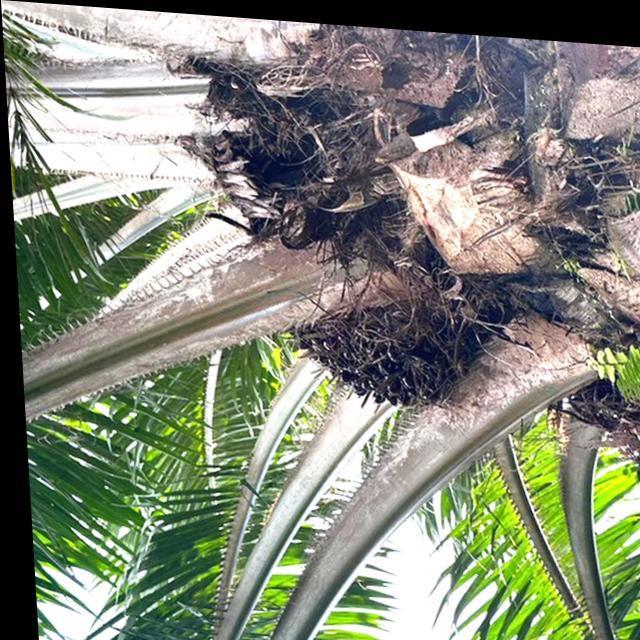almost: (272, 278, 466, 421)
